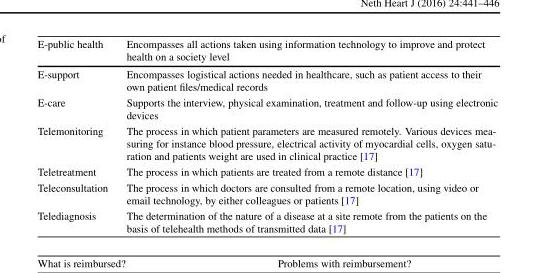table: (36, 37, 497, 233)
table column: (116, 37, 497, 233), (36, 37, 116, 233)
table column header: (36, 37, 497, 64)
table row: (36, 122, 497, 163), (36, 64, 497, 94), (36, 94, 497, 122), (36, 179, 497, 207), (36, 37, 497, 64), (36, 207, 497, 233), (36, 163, 497, 179)
